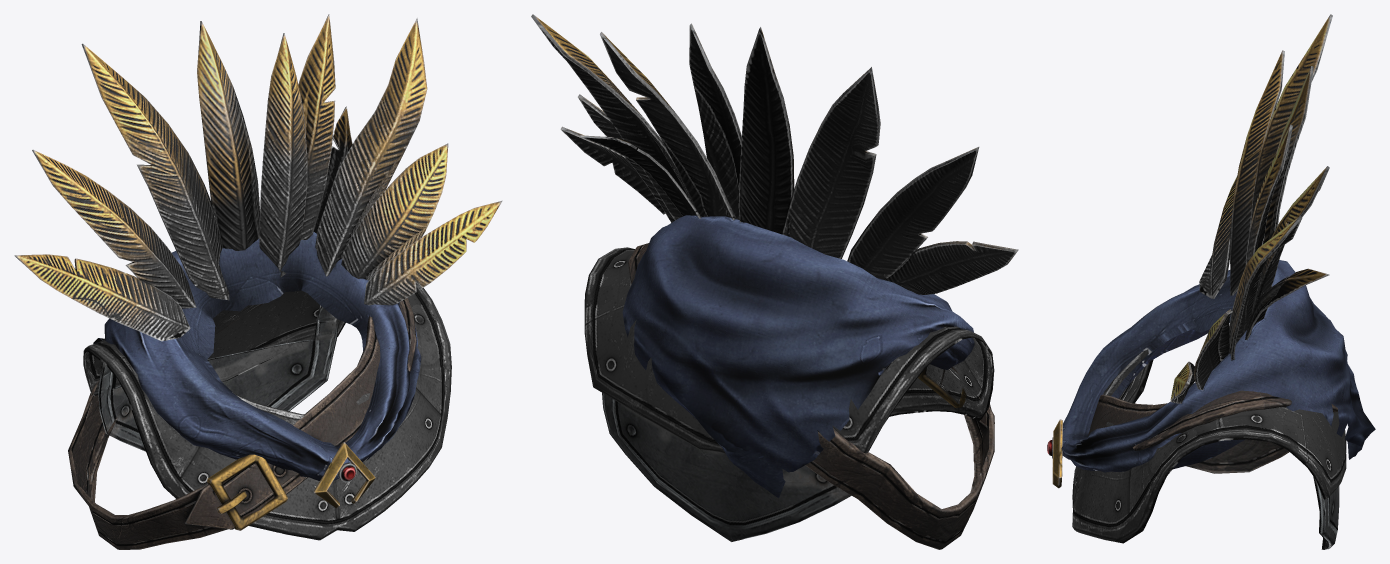
File: sm_human_varnaic_chest_add.gltf
The picture shows the model from 3 angles, left to right: view 1: azimuth 30°, elevation 25°; view 2: azimuth 150°, elevation 25°; view 3: azimuth 270°, elevation 25°; orthographic projection. The views are drawn at different scales.
Visible parts, largest first — view 1: sm_human_varnaic_chest_add; view 2: sm_human_varnaic_chest_add; view 3: sm_human_varnaic_chest_add.
Boxes of the visible parts, x1,y1,x2,y2 form: sm_human_varnaic_chest_add: (14, 14, 502, 549); sm_human_varnaic_chest_add: (531, 14, 1018, 549); sm_human_varnaic_chest_add: (1047, 14, 1375, 549).
Size of the model in its own units: 65.7 by 64.85 by 40.68.
Materials: 1 (1 with a texture image).
